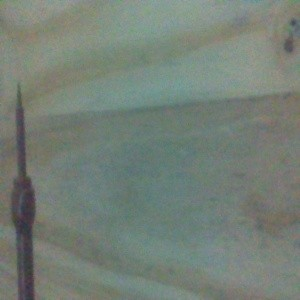solder: (9, 81, 36, 300)
